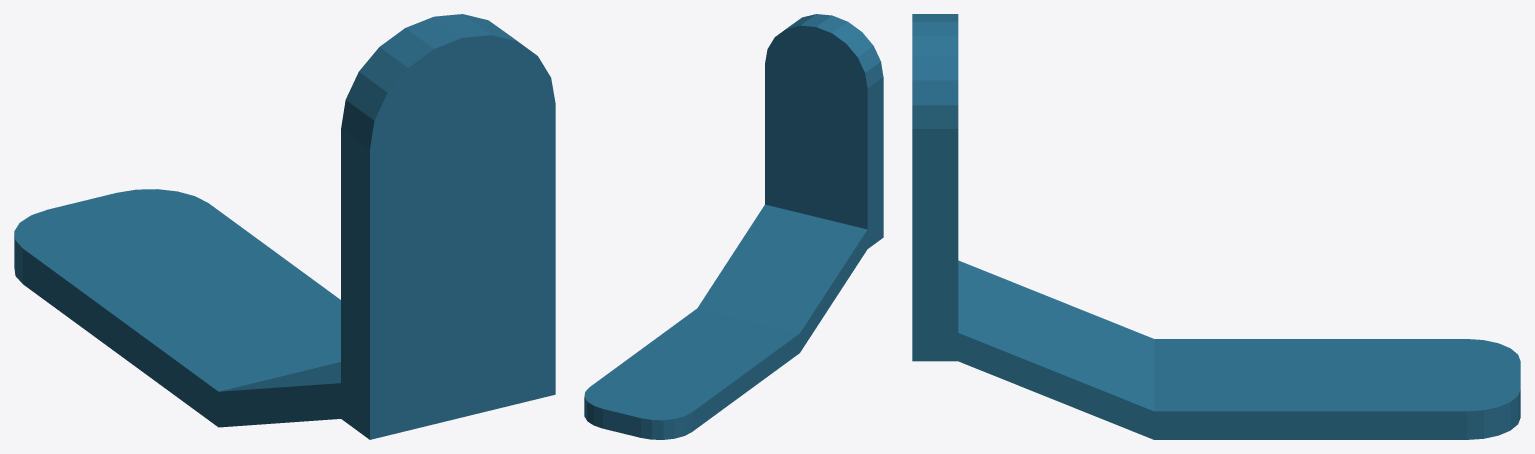
The model's file is VIS_WristLink2.dae.
3 renders of one model, left to right at view 1: azimuth 30°, elevation 25°; view 2: azimuth 150°, elevation 25°; view 3: azimuth 270°, elevation 25°, orthographic. The views are drawn at different scales.
Parts seen in each view (by area): view 1: VIS_WristLink2; view 2: VIS_WristLink2; view 3: VIS_WristLink2.
Part boxes in pixels (x1,y1,x2,y2): VIS_WristLink2: [14, 14, 555, 439]; VIS_WristLink2: [584, 14, 883, 439]; VIS_WristLink2: [912, 14, 1520, 439].
Bounding box in the file's own units: 0.0327 × 0.1159 × 0.0803.
